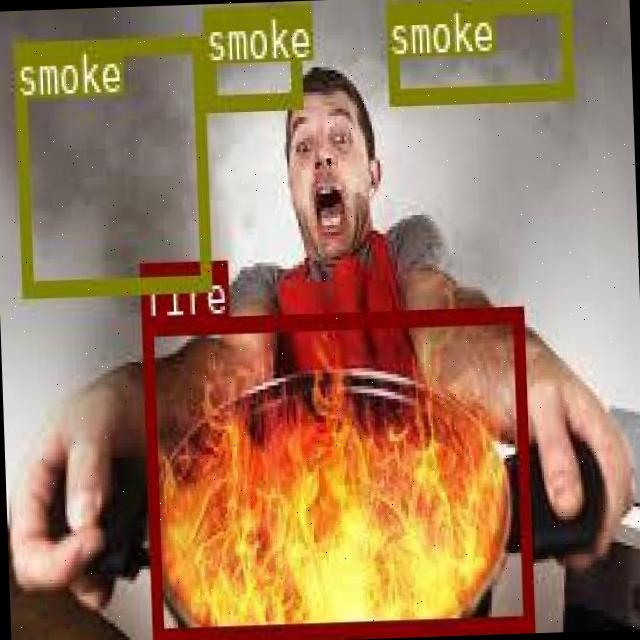fire: (139, 304, 531, 639)
smoke: (11, 34, 208, 294), (384, 0, 571, 99), (200, 4, 300, 109)
